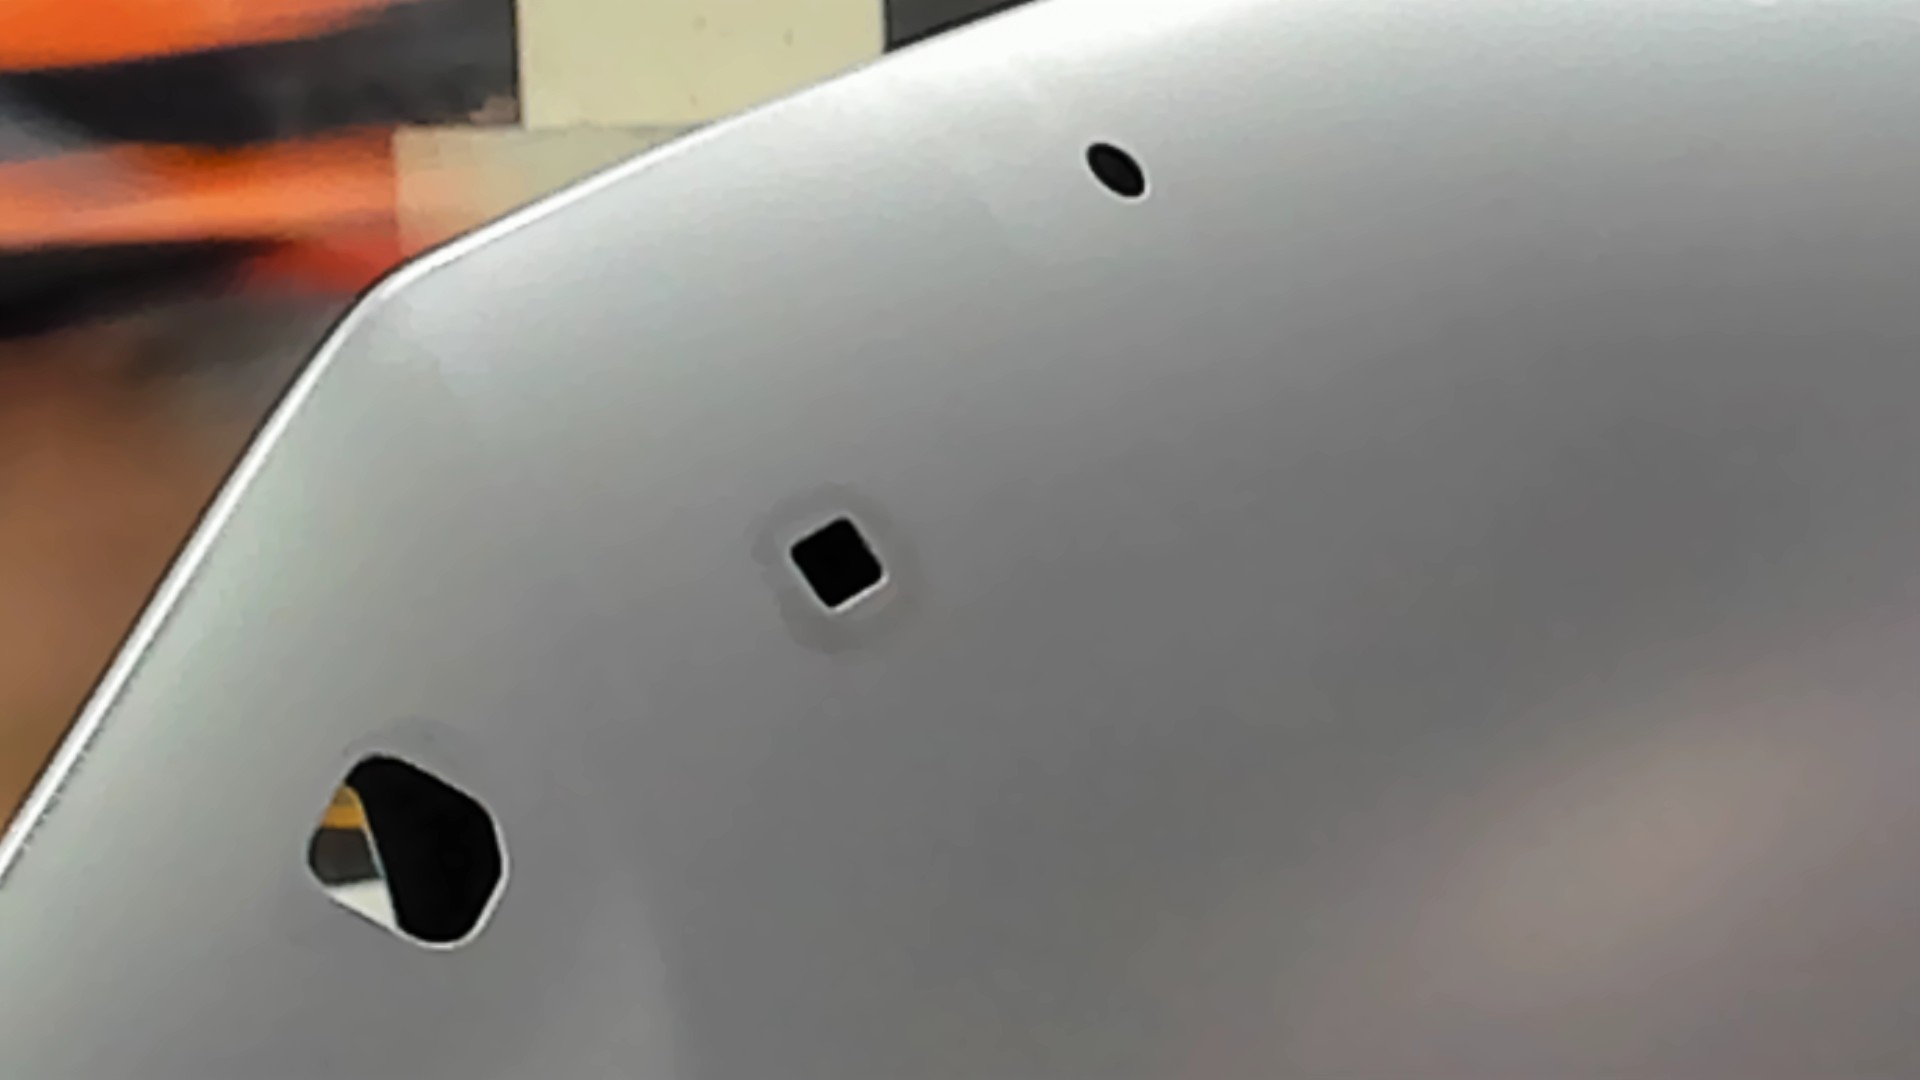chico: (1080, 138, 1151, 203)
grande: (305, 752, 513, 951)
mediano: (787, 514, 891, 615)
